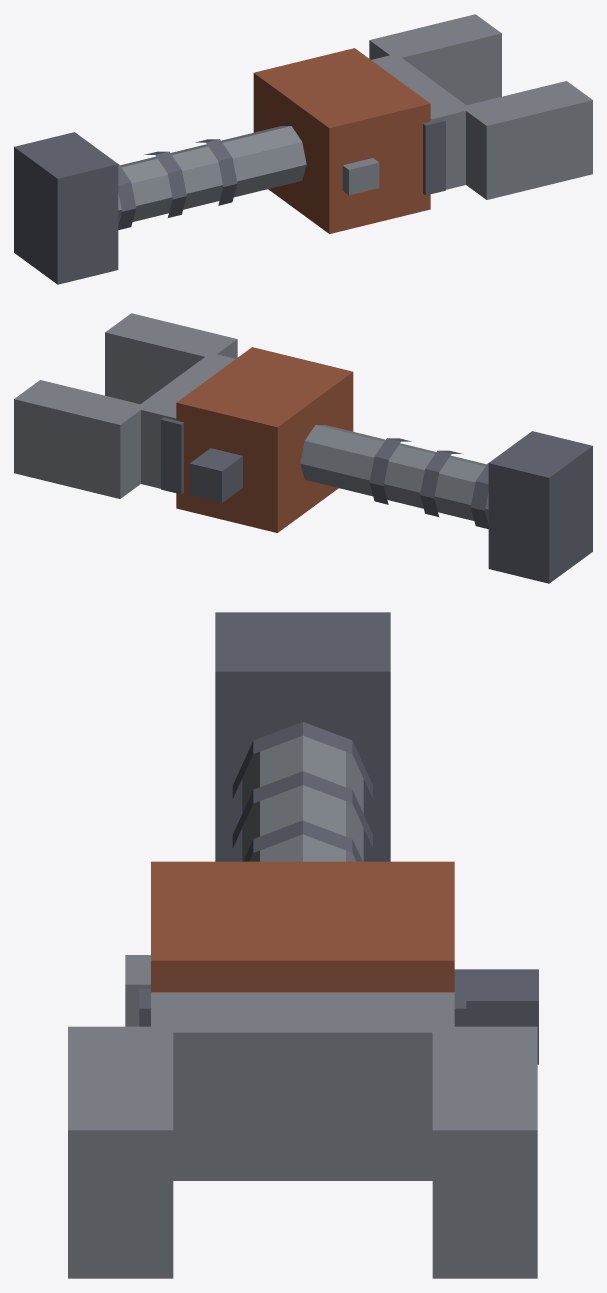
Rendered from power-wrench-3fadfd.glb.
3 renders of one model, top to bottom at view 1: azimuth 30°, elevation 25°; view 2: azimuth 150°, elevation 25°; view 3: azimuth 270°, elevation 25°, orthographic. The views are drawn at different scales.
Visible parts, largest first — view 1: power-wrench-mesh; view 2: power-wrench-mesh; view 3: power-wrench-mesh.
Part boxes in pixels (x1=…): power-wrench-mesh: x1=14, y1=14, x2=592, y2=284; power-wrench-mesh: x1=14, y1=313, x2=592, y2=583; power-wrench-mesh: x1=68, y1=612, x2=538, y2=1278.
Size of the model in its own units: 0.3203 by 0.065 by 0.131.
